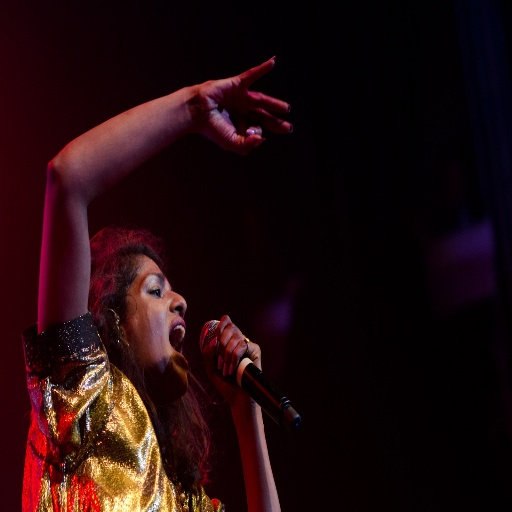hand: (191, 53, 296, 157), (188, 309, 273, 432)
